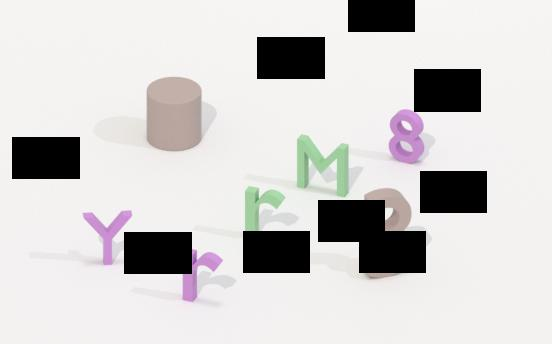3: (361, 187, 414, 281)
8: (387, 107, 426, 166)
M-hoa: (294, 130, 355, 202)
R: (243, 185, 288, 244), (180, 246, 225, 303)
Y-hoa: (79, 200, 138, 270)
tru: (145, 74, 205, 153)
